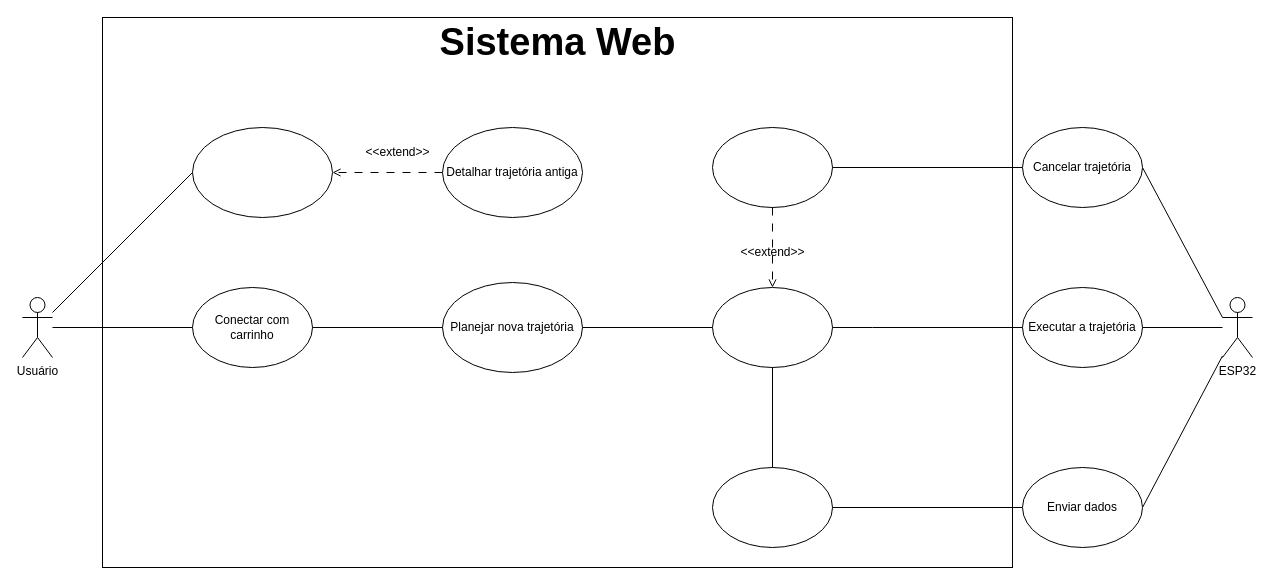
Some shapes in this 1273 by 585 pixel diagram are drawn without their labels. Each missing label, with the box of its shape:
Detalhar trajetória atual: (712, 466, 832, 548)
Iniciar trajetória: (712, 286, 832, 368)
Listar trajetórias antigas: (192, 126, 332, 218)
Parar carrinho: (712, 126, 832, 208)
